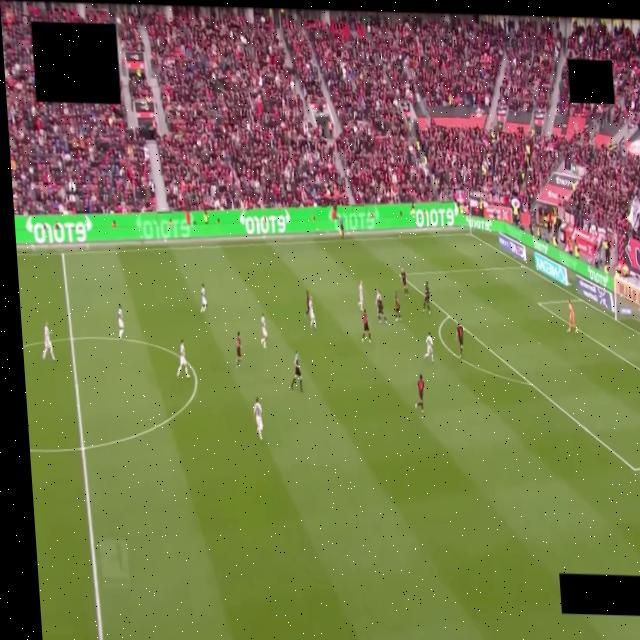player: (42, 323, 55, 360), (177, 340, 189, 379), (253, 398, 262, 440), (376, 291, 386, 323), (567, 300, 577, 332), (415, 374, 423, 413), (424, 332, 433, 362), (422, 282, 430, 314), (362, 311, 370, 342), (456, 323, 463, 358), (260, 314, 267, 348), (308, 298, 315, 329), (394, 291, 401, 322), (235, 332, 241, 366), (400, 267, 407, 296), (117, 305, 123, 338), (200, 284, 206, 312), (358, 282, 363, 310), (304, 290, 309, 316)
referee: (290, 352, 302, 391)
